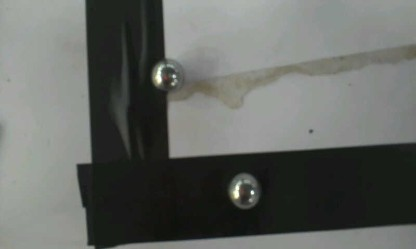ironball: (227, 172, 261, 210), (150, 57, 184, 92)
